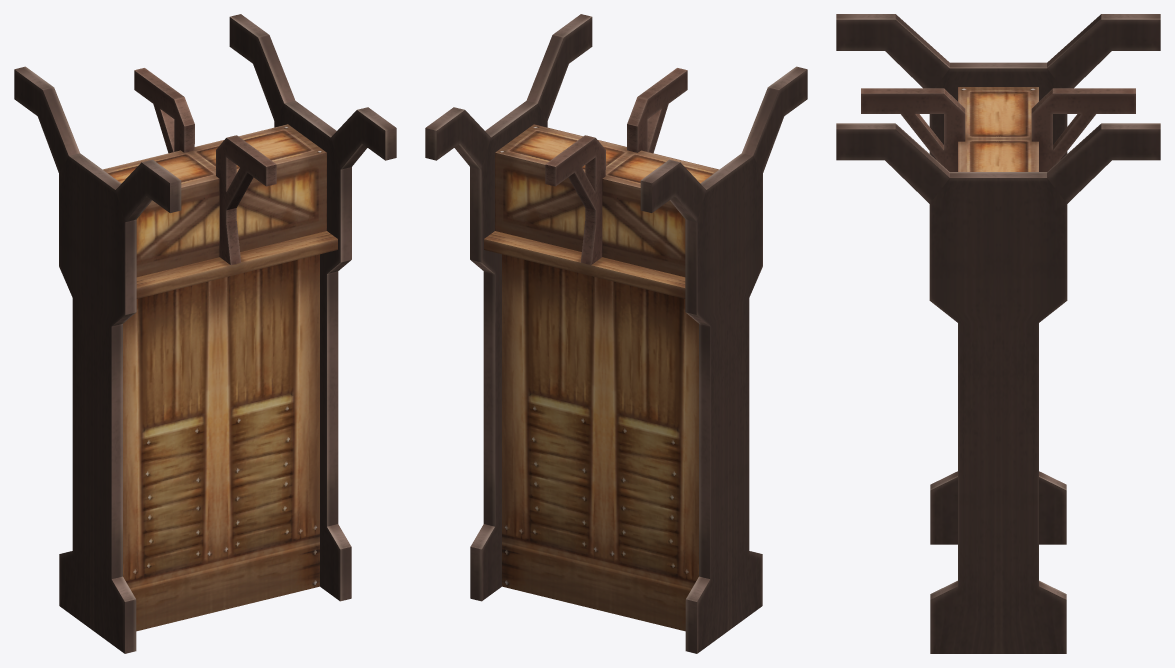
File: a_SWGuwall02a.glb
The picture shows the model from 3 angles, left to right: view 1: azimuth 30°, elevation 25°; view 2: azimuth 150°, elevation 25°; view 3: azimuth 270°, elevation 25°; orthographic projection. The views are drawn at different scales.
Parts seen in each view (by area): view 1: a_SWGuwall02a; view 2: a_SWGuwall02a; view 3: a_SWGuwall02a.
Boxes of the visible parts, box(x1,y1,x2,y2) form: a_SWGuwall02a: box(14, 14, 396, 653); a_SWGuwall02a: box(425, 14, 807, 653); a_SWGuwall02a: box(836, 14, 1160, 653).
Size of the model in its own units: 2 by 4.25 by 2.38.
Materials: 1 (1 with a texture image).
